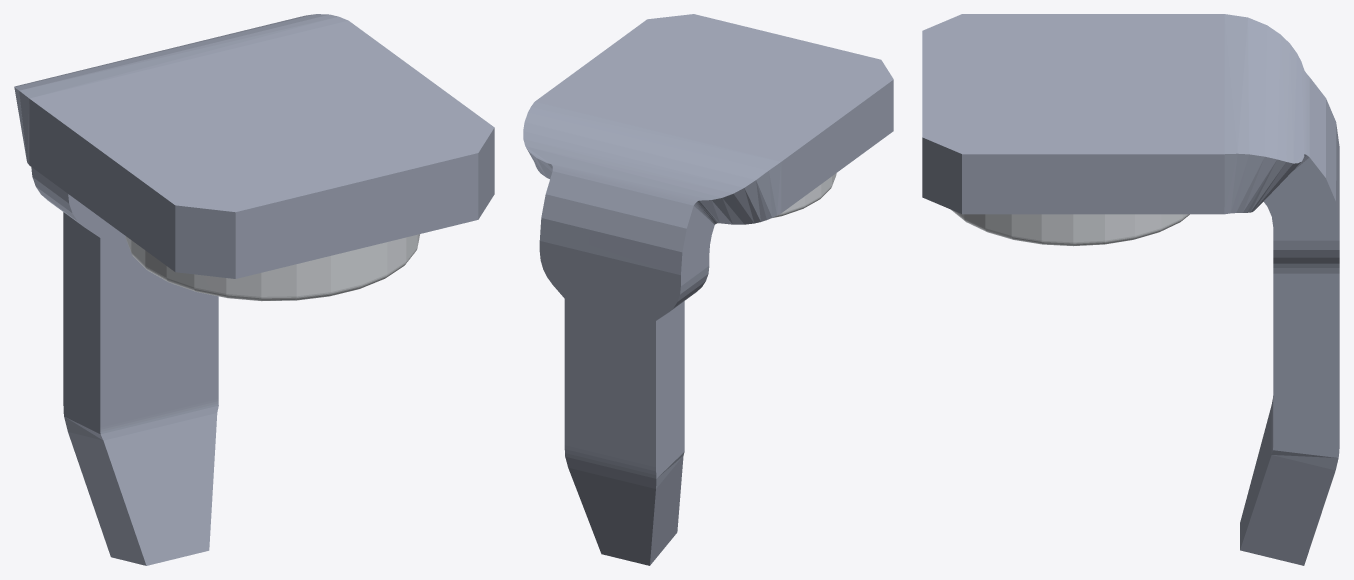
File: 05_Alum_P10p5mmXDia25mmXHei26mm.obj
3 renders of one model, left to right at view 1: azimuth 30°, elevation 25°; view 2: azimuth 150°, elevation 25°; view 3: azimuth 270°, elevation 25°, orthographic. The views are drawn at different scales.
Parts seen in each view (by area): view 1: 05_Alum_P10p5mmXDia25mmXHei26mm; view 2: 05_Alum_P10p5mmXDia25mmXHei26mm; view 3: 05_Alum_P10p5mmXDia25mmXHei26mm.
Boxes of the visible parts, box(x1,y1,x2,y2) form: 05_Alum_P10p5mmXDia25mmXHei26mm: box(14, 14, 494, 565); 05_Alum_P10p5mmXDia25mmXHei26mm: box(523, 14, 893, 565); 05_Alum_P10p5mmXDia25mmXHei26mm: box(922, 14, 1339, 565).
Bounding box in the file's own units: 0.00852 × 0.0133 × 0.0107.
